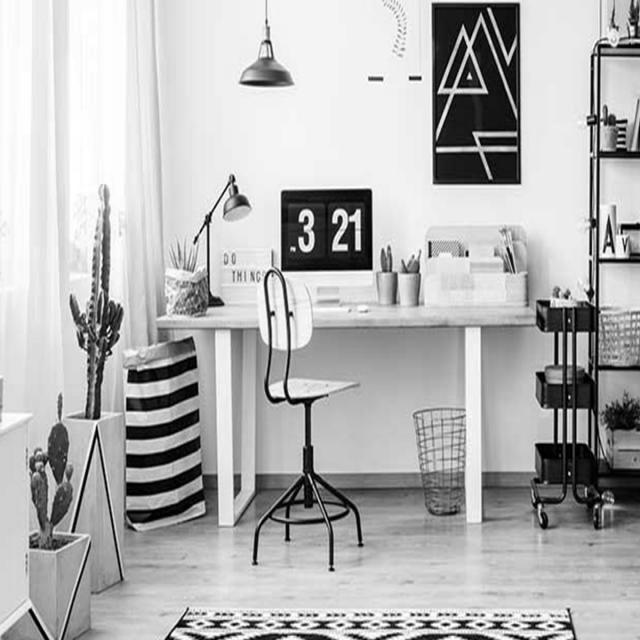table: (160, 262, 548, 422)
